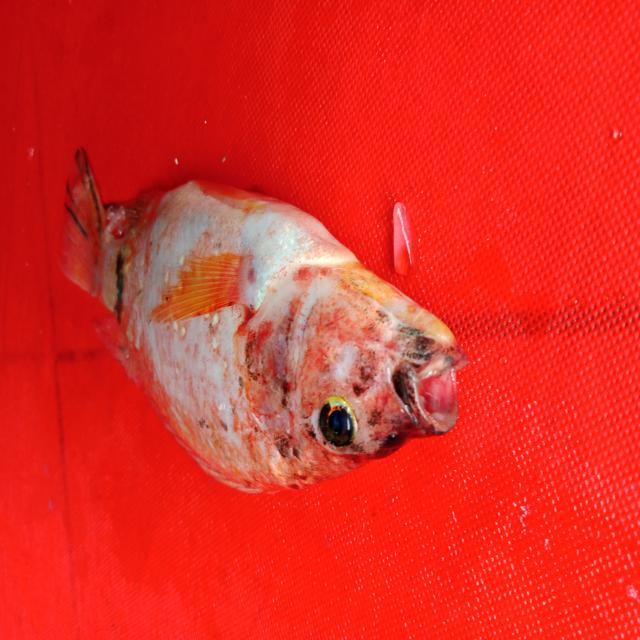ikan: (51, 123, 476, 510)
